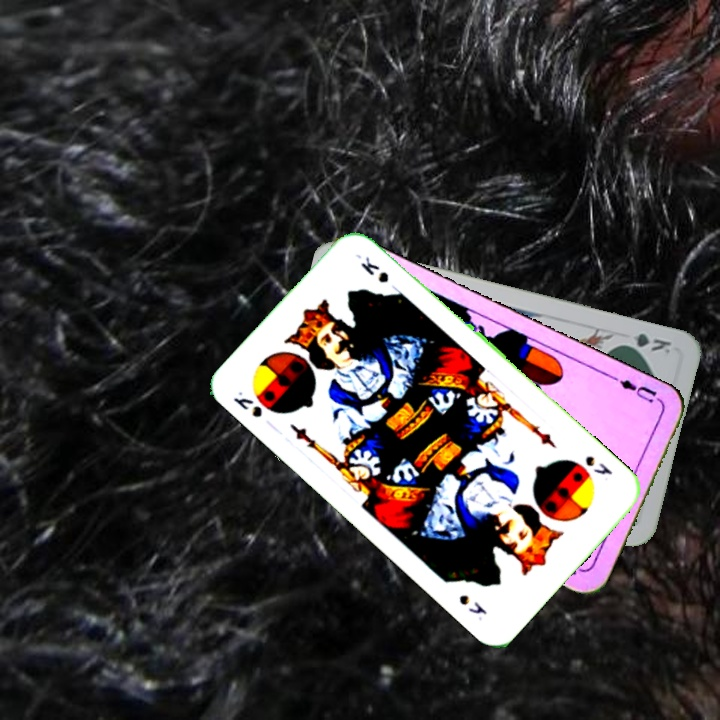EU: (609, 372, 665, 406)
GK: (616, 329, 674, 357)
SK: (229, 387, 265, 421), (580, 451, 615, 478)
